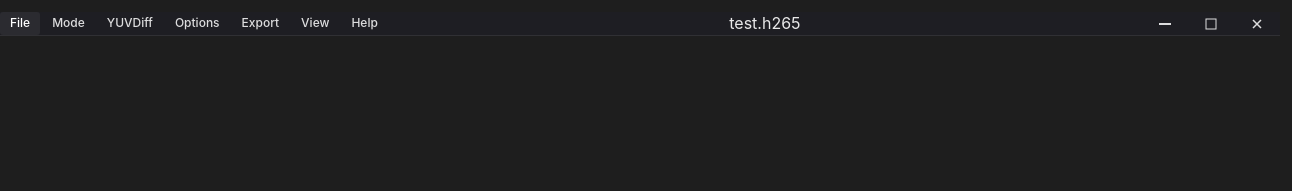
TitleBar menu actions › should have View options
Hover over the text "View".
mouse_move(315, 24)  # box [301,15,329,32]
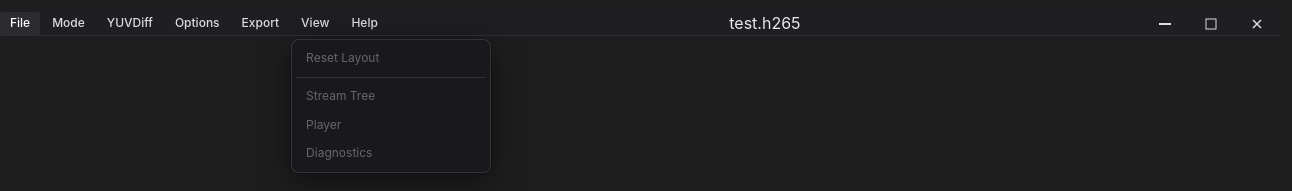
Result: the text "Reset Layout" is shown at [306,50,379,65]
